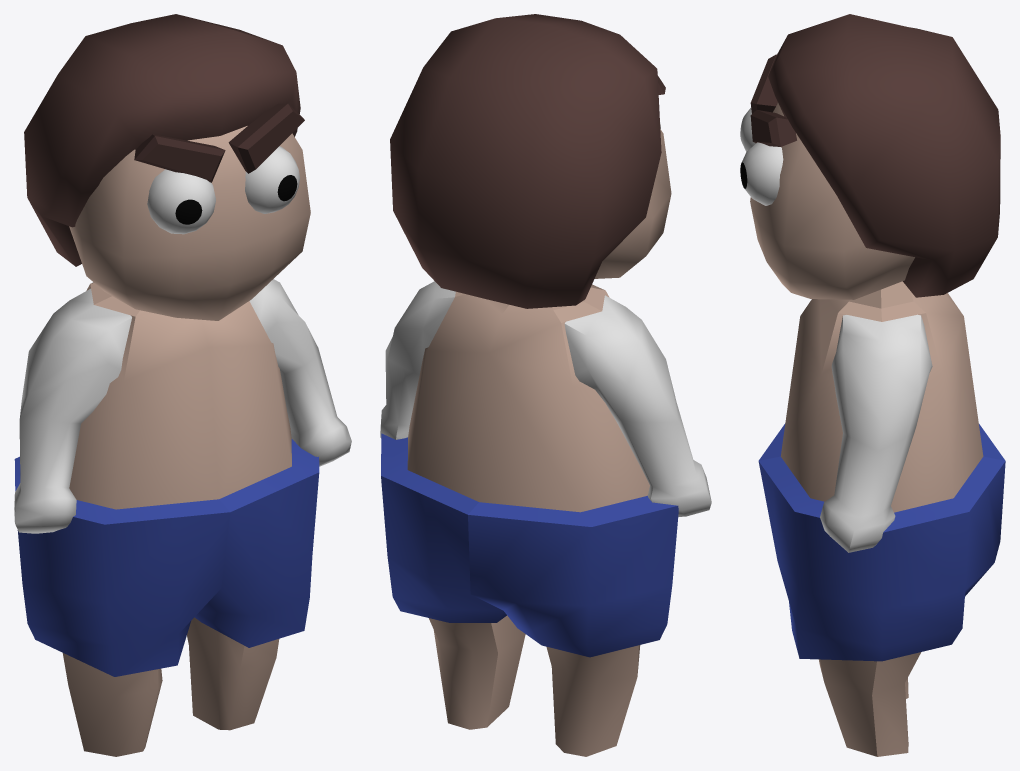
Rendered from Child01.fbx.
3 views of the same model, side by side, from view 1: azimuth 30°, elevation 25°; view 2: azimuth 150°, elevation 25°; view 3: azimuth 270°, elevation 25° (orthographic). The views are drawn at different scales.
Parts seen in each view (by area): view 1: Body, ArmR, ArmL; view 2: Body, ArmR, ArmL; view 3: Body, ArmL.
Part boxes in pixels (x1=…): Body: x1=14, y1=14, x2=319, y2=756; ArmR: x1=14, y1=288, x2=131, y2=533; ArmL: x1=249, y1=279, x2=351, y2=466; Body: x1=381, y1=14, x2=678, y2=756; ArmR: x1=564, y1=295, x2=711, y2=516; ArmL: x1=380, y1=281, x2=455, y2=439; Body: x1=740, y1=14, x2=1005, y2=756; ArmL: x1=820, y1=314, x2=932, y2=552.
Bounding box in the file's own units: 127 × 253 × 88.75.
